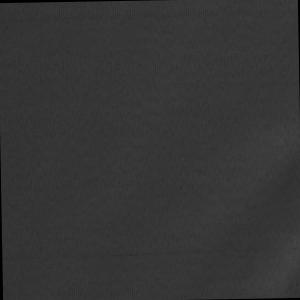Wrinkle: (181, 140, 300, 300)
